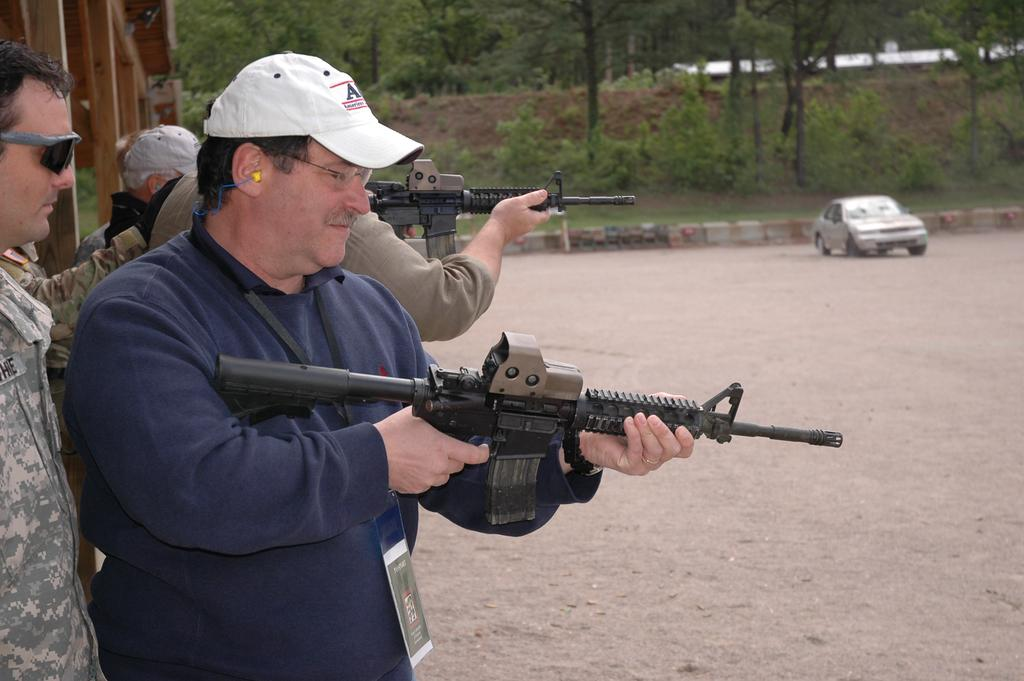Hat: (198, 51, 424, 172), (122, 121, 194, 176)
